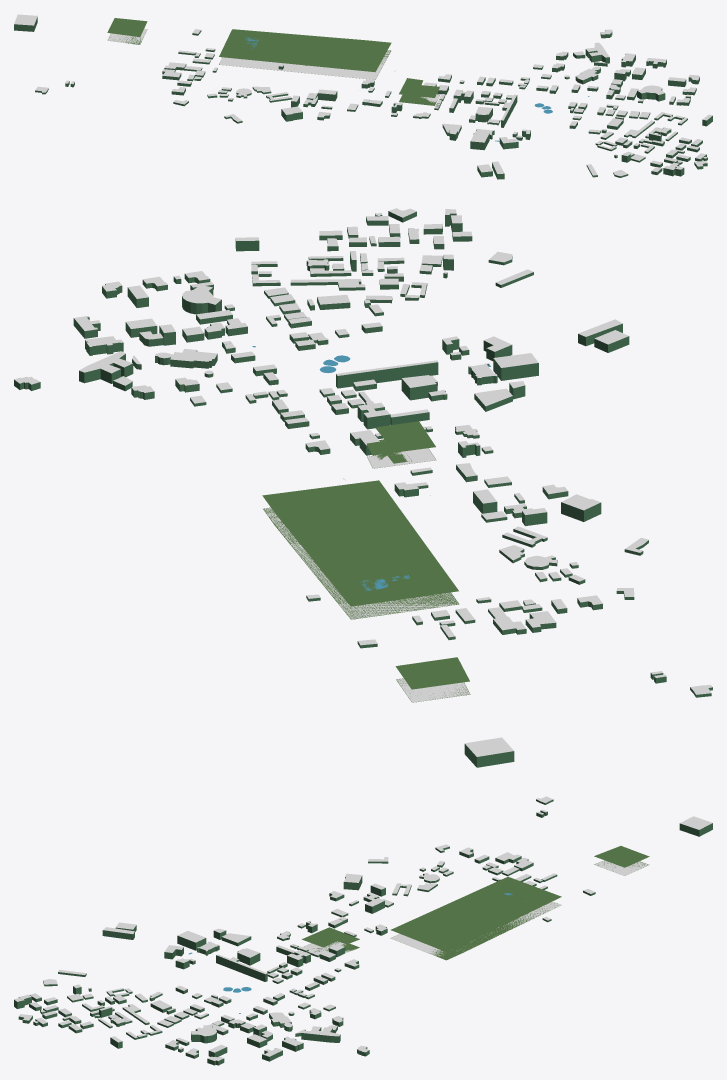
Rendered from mapa-espoch_1780104991021.glb.
3 views of the same model, one above another, from view 1: azimuth 30°, elevation 25°; view 2: azimuth 150°, elevation 25°; view 3: azimuth 270°, elevation 25° (orthographic). The views are drawn at different scales.
Parts seen in each view (by area): view 1: map.osm_buildings, map_2.osm_vegetation, map.osm_vegetation_envelope, map.osm_vegetation; view 2: map.osm_buildings, map_2.osm_vegetation, map.osm_vegetation_envelope, map.osm_vegetation; view 3: map.osm_buildings, map_2.osm_vegetation, map.osm_vegetation_envelope, map.osm_vegetation.
Boxes of the visible parts, bbox=[...] form: map.osm_buildings: bbox=[14, 14, 712, 179]; map_2.osm_vegetation: bbox=[107, 18, 439, 97]; map.osm_vegetation_envelope: bbox=[107, 29, 439, 102]; map.osm_vegetation: bbox=[108, 28, 439, 105]; map.osm_buildings: bbox=[14, 208, 712, 767]; map_2.osm_vegetation: bbox=[262, 421, 469, 689]; map.osm_vegetation_envelope: bbox=[263, 448, 469, 702]; map.osm_vegetation: bbox=[263, 439, 470, 702]; map.osm_buildings: bbox=[14, 796, 712, 1065]; map_2.osm_vegetation: bbox=[302, 846, 649, 951]; map.osm_vegetation_envelope: bbox=[303, 860, 648, 956]; map.osm_vegetation: bbox=[304, 861, 648, 960].
Size of the model in its own units: 1376 by 20.98 by 1520.
